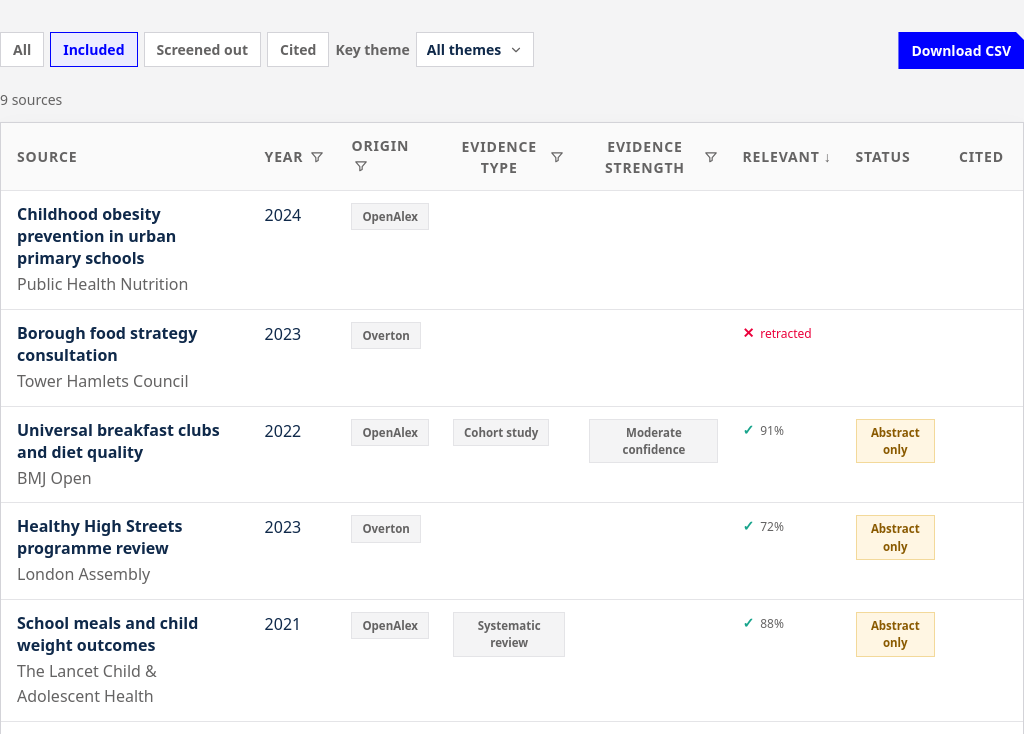
Test: SourcesView — sortable table (028 strand 7) › offers a theme select scoped to themes carrying a theme_id, defaulting to All themes
Click the button named "Key theme".
click(475, 50)  # box left=416, top=32, right=534, bottom=67
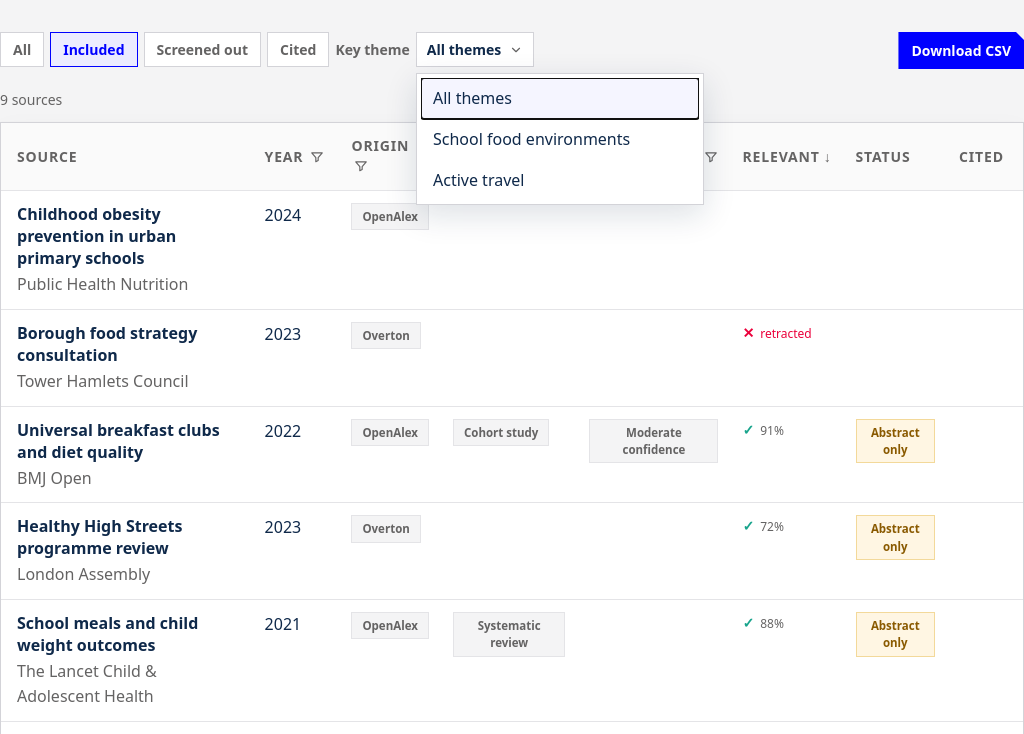
Expected: the option "All themes" is shown, left=421, top=78, right=699, bottom=119
Expected: the option "School food environments" is shown, left=421, top=119, right=699, bottom=160
